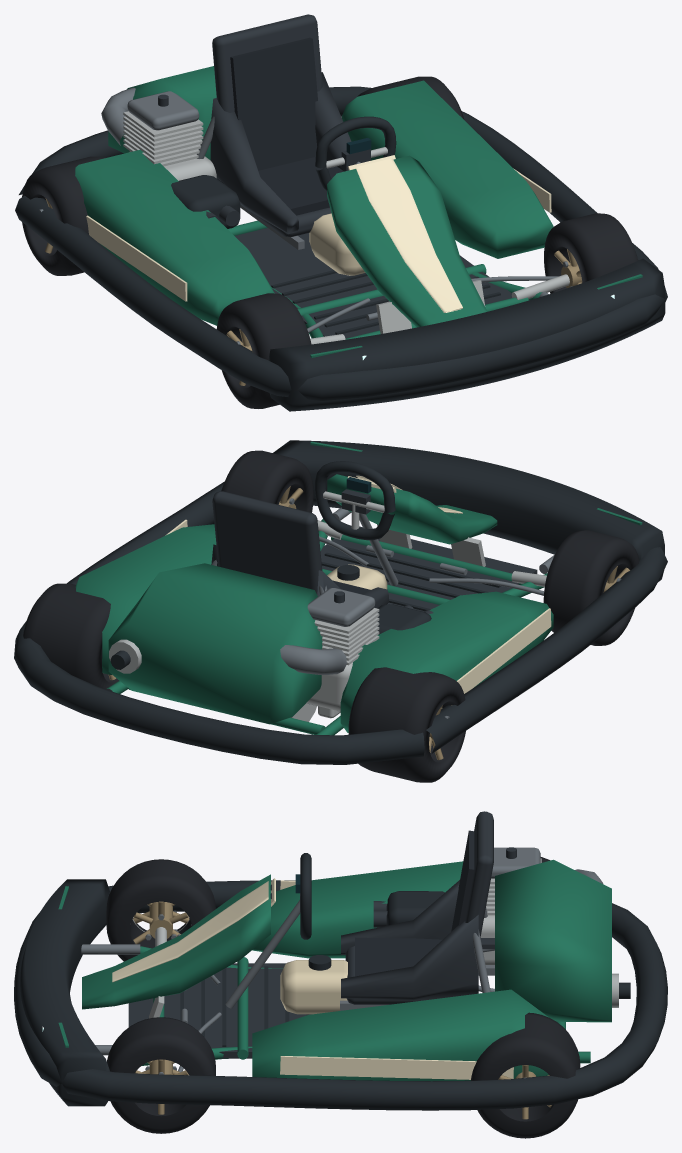
File: ooli.glb
The picture shows the model from 3 angles, top to bottom: view 1: azimuth 30°, elevation 25°; view 2: azimuth 150°, elevation 25°; view 3: azimuth 270°, elevation 25°; orthographic projection.
Visible parts, largest first — view 1: Moulded bumper polymer (×3), paint, Satin composite, Slick vulcanised rubber (×4), Seat fabric, Livery ivory, Brushed alloy, Steel fasteners, Fuel reservoir; view 2: paint, Moulded bumper polymer (×3), Slick vulcanised rubber (×4), Satin composite, Brushed alloy (×2), Steel fasteners, Livery ivory, Fuel reservoir; view 3: paint, Moulded bumper polymer (×3), Slick vulcanised rubber (×3), Satin composite, Livery ivory, Steel fasteners (×2), Seat fabric, Fuel reservoir, Magnesium wheel centres (×2), Brushed alloy.
Part boxes in pixels (x1=…): Moulded bumper polymer (×3): x1=15, y1=86, x2=667, y2=411; paint: x1=75, y1=66, x2=553, y2=339; Satin composite: x1=158, y1=14, x2=512, y2=338; Slick vulcanised rubber (×4): x1=22, y1=76, x2=638, y2=408; Seat fabric: x1=230, y1=37, x2=343, y2=215; Livery ivory: x1=86, y1=158, x2=551, y2=312; Brushed alloy: x1=123, y1=111, x2=569, y2=344; Steel fasteners: x1=101, y1=87, x2=558, y2=332; Fuel reservoir: x1=309, y1=213, x2=365, y2=275; paint: x1=75, y1=474, x2=553, y2=735; Moulded bumper polymer (×3): x1=14, y1=440, x2=667, y2=764; Slick vulcanised rubber (×4): x1=23, y1=450, x2=639, y2=782; Satin composite: x1=211, y1=491, x2=537, y2=614; Brushed alloy (×2): x1=109, y1=491, x2=546, y2=721; Steel fasteners: x1=211, y1=513, x2=544, y2=711; Livery ivory: x1=165, y1=475, x2=551, y2=708; Fuel reservoir: x1=327, y1=564, x2=387, y2=589; paint: x1=82, y1=859, x2=611, y2=1081; Moulded bumper polymer (×3): x1=14, y1=853, x2=667, y2=1110; Slick vulcanised rubber (×3): x1=106, y1=859, x2=580, y2=1138; Satin composite: x1=128, y1=811, x2=516, y2=1058; Livery ivory: x1=112, y1=880, x2=513, y2=1079; Steel fasteners (×2): x1=81, y1=847, x2=603, y2=1072; Seat fabric: x1=355, y1=830, x2=474, y2=976; Fuel reservoir: x1=280, y1=960, x2=347, y2=1014; Magnesium wheel centres (×2): x1=133, y1=901, x2=189, y2=1114; Brushed alloy: x1=149, y1=858, x2=618, y2=1018.
Bounding box in the file's own units: 2.17 × 1.01 × 2.8.
